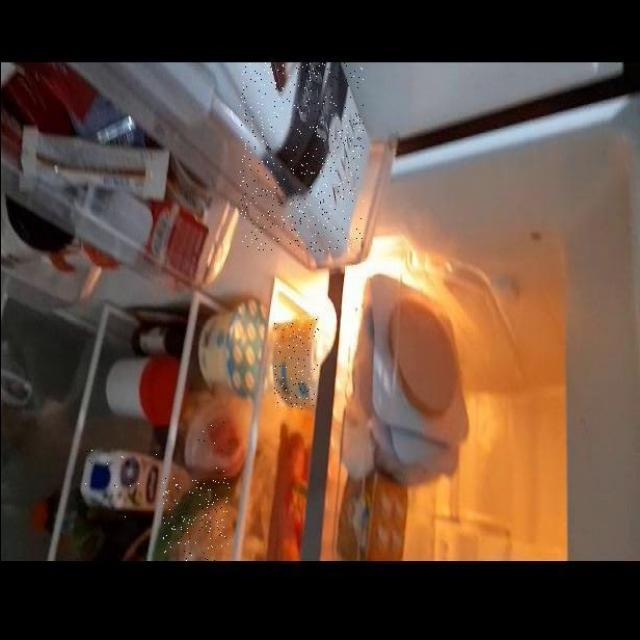Yogur: (273, 317, 319, 411)
Zanahoria: (272, 427, 306, 561)
chocolate chips: (239, 63, 363, 253)
green chilies: (163, 478, 229, 561)
milk: (82, 446, 158, 520)
tomato paste: (197, 414, 239, 476)
